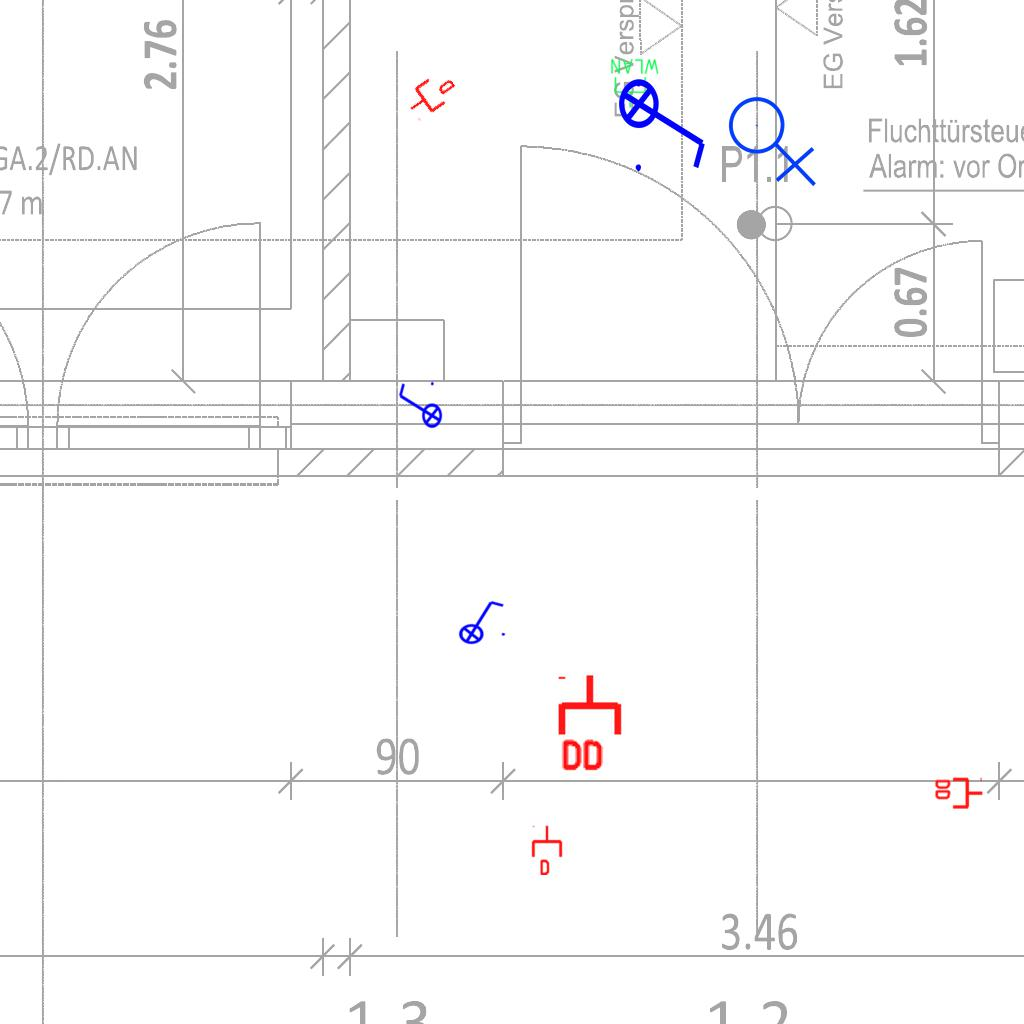Ausschalter_beleuchtet: (617, 65, 713, 177), (452, 597, 508, 645), (395, 379, 443, 435)
Datenanschluss_einfach: (400, 66, 462, 124), (530, 825, 564, 875)
Datenanschluss_zweifach: (557, 672, 626, 775), (933, 777, 984, 811)
Elektroanschluss_allgemein_230V_Geraeteanschlussdose_230V: (727, 88, 821, 187)
WLAN: (609, 57, 661, 109)
